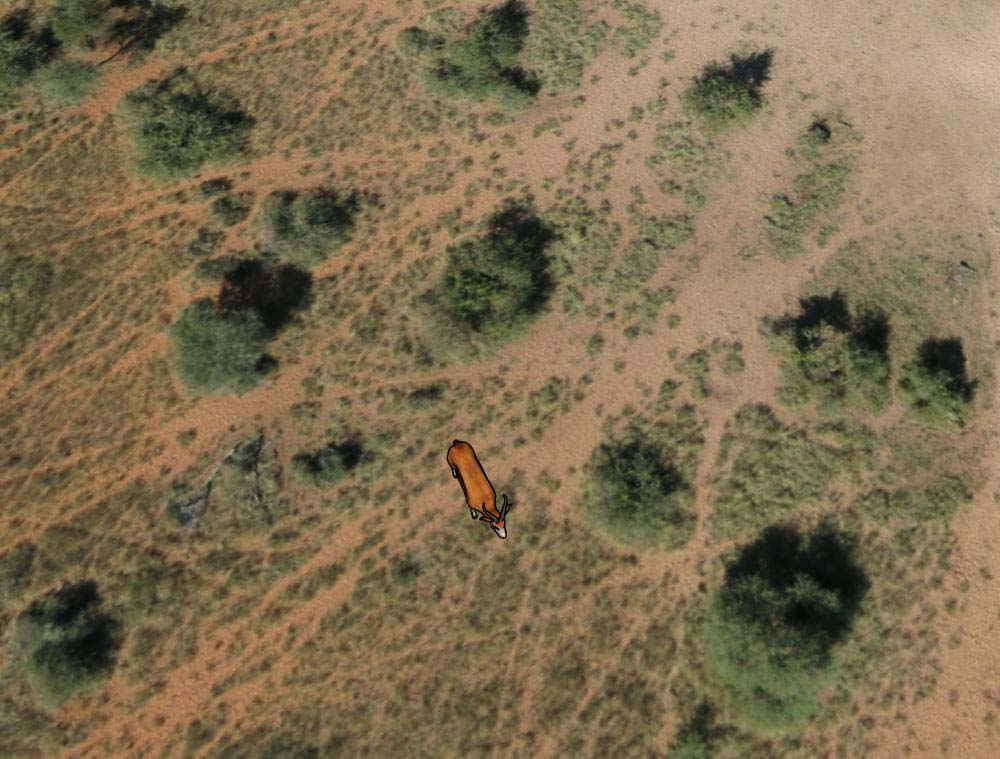springbok: (438, 434, 512, 547)
